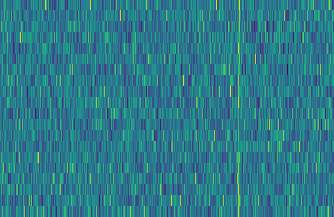signal: (235, 0, 244, 217)
